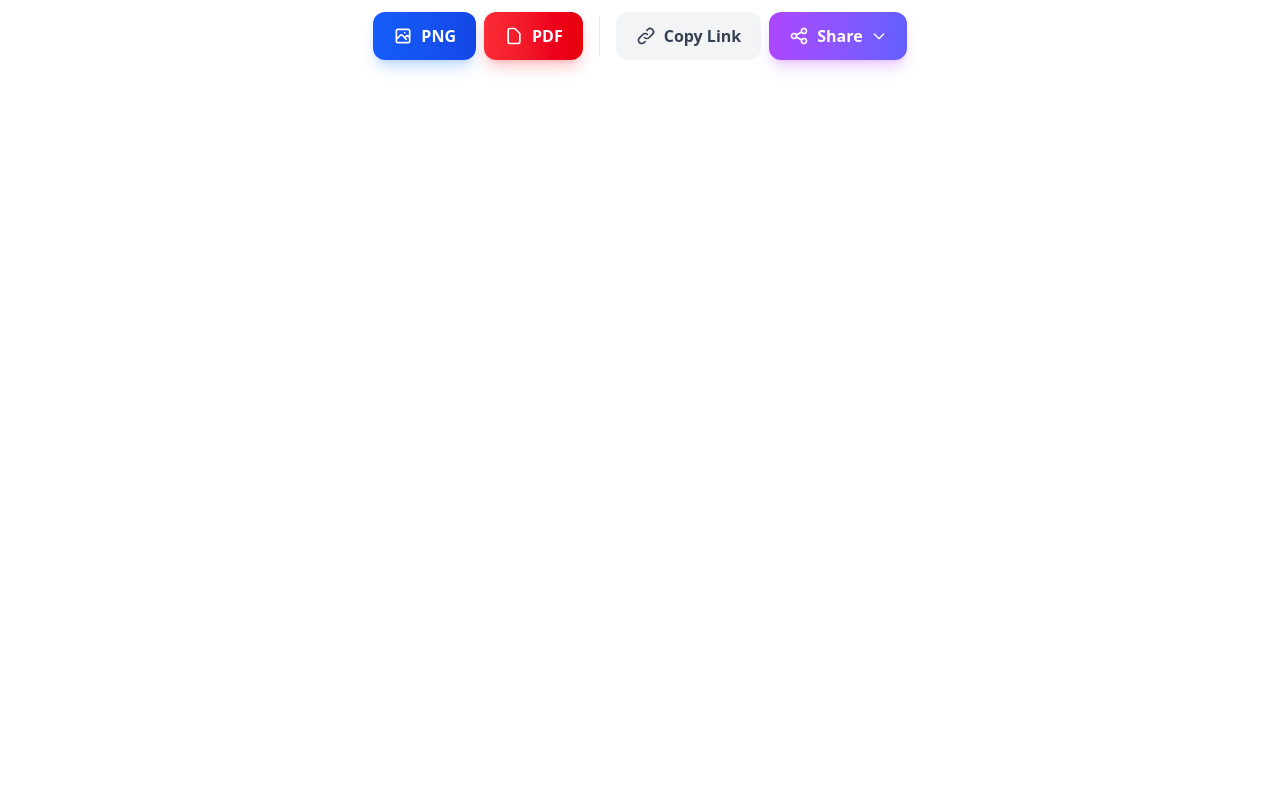
Test: CertificateActions › closes share menu when clicking outside
The width and height of the screenshot is (1280, 812).
Open share menu
Click the button "Share": coordinates (838, 36) [769, 12, 907, 60]
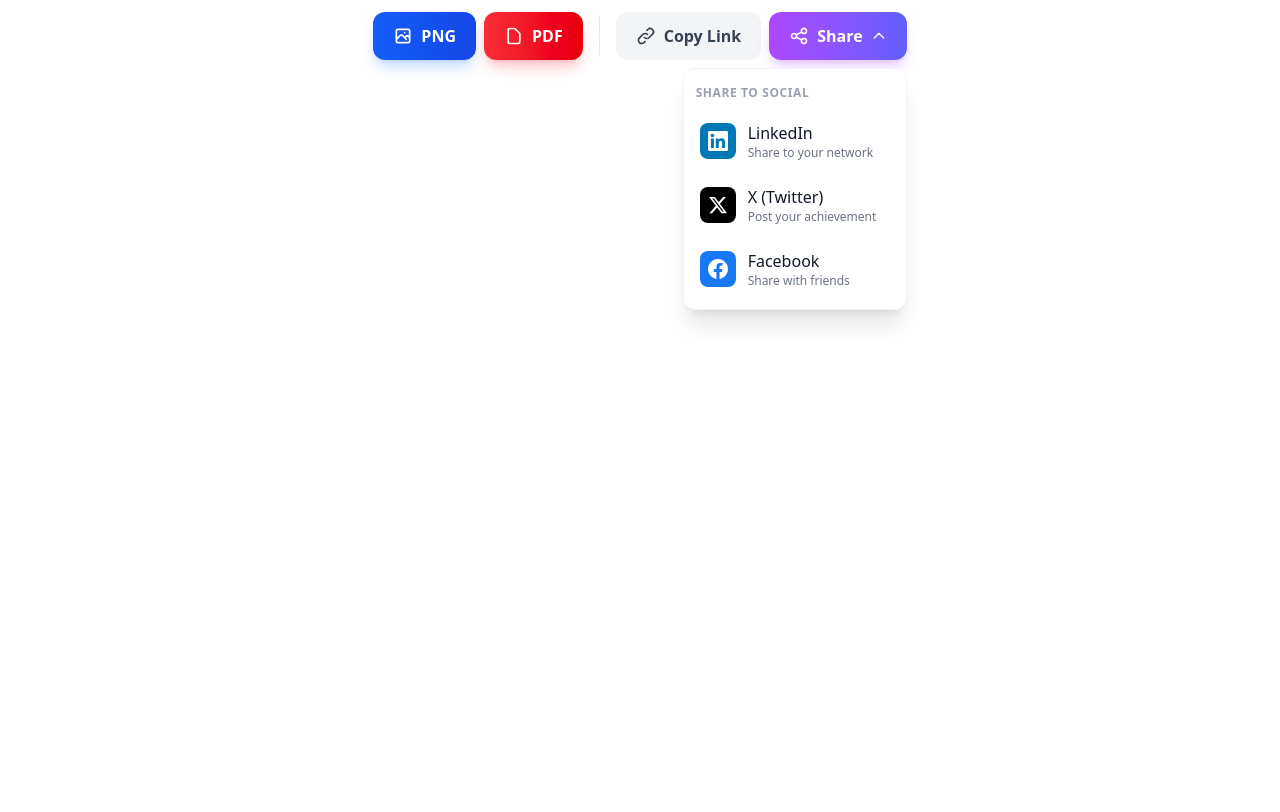
Result: the text "LinkedIn" is shown at [748, 122, 813, 144]
Click the element with class "inset-0": coordinates (640, 412) [0, 12, 1279, 811]
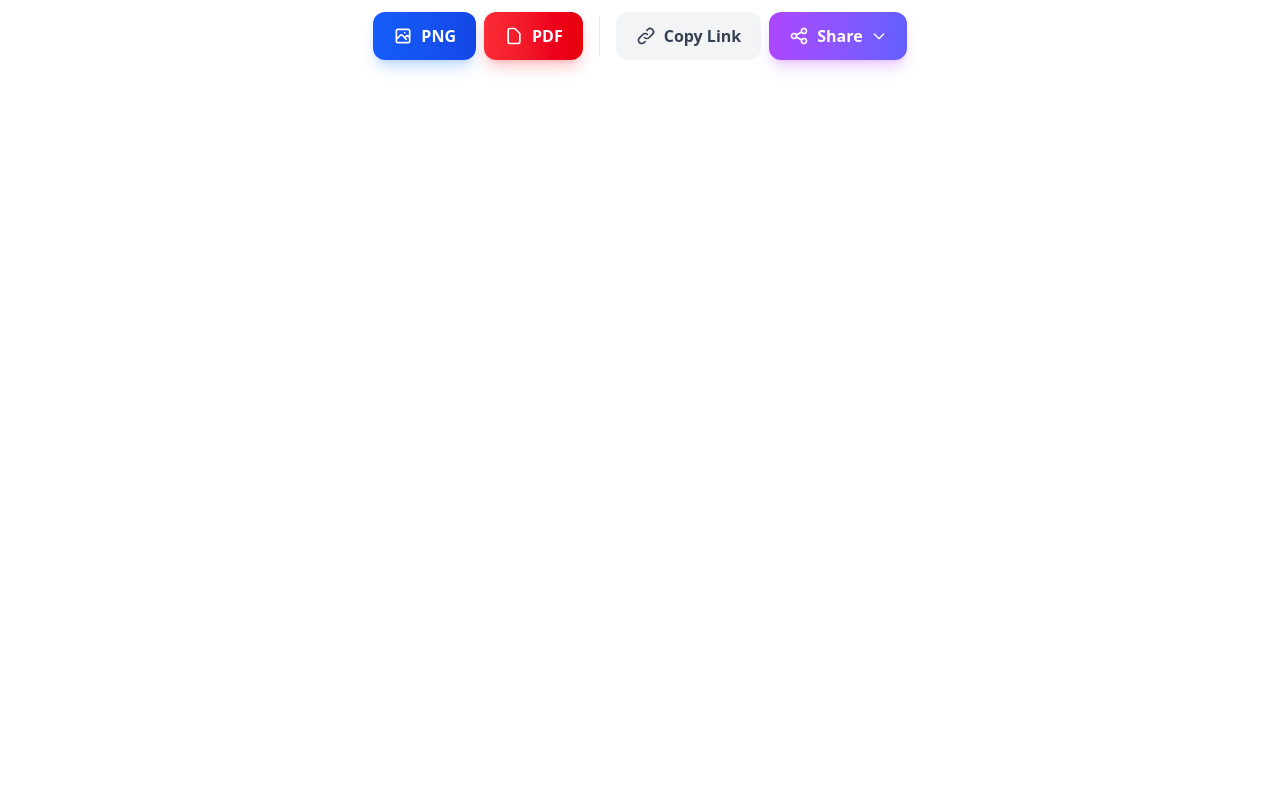
Result: the text "Share to Social" is gone
